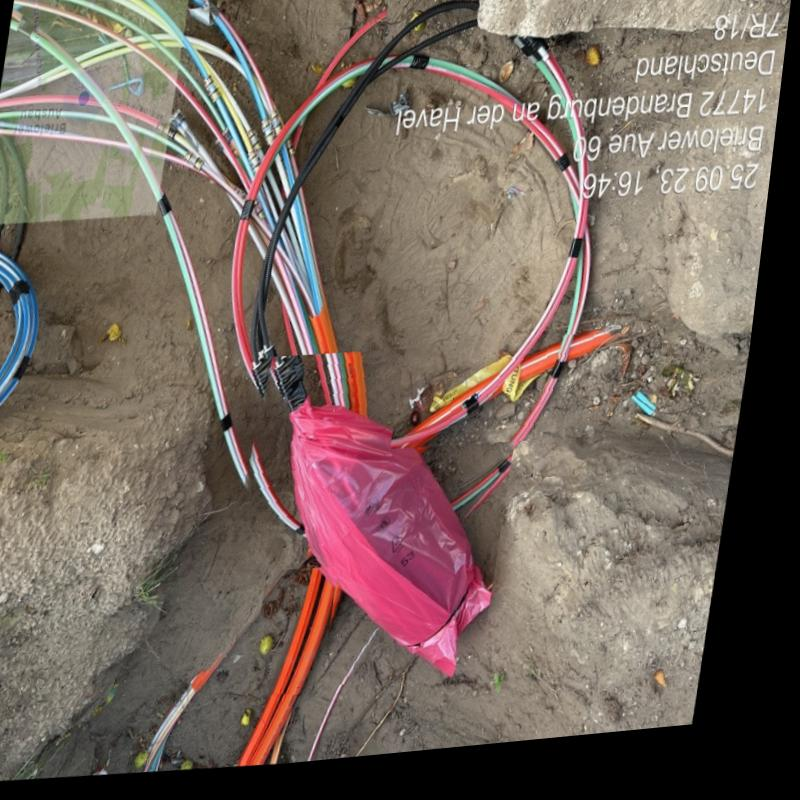NT-Muffen: (277, 362, 507, 688)
Orang-Speednetrohrchen: (403, 344, 626, 457), (256, 575, 351, 770)
